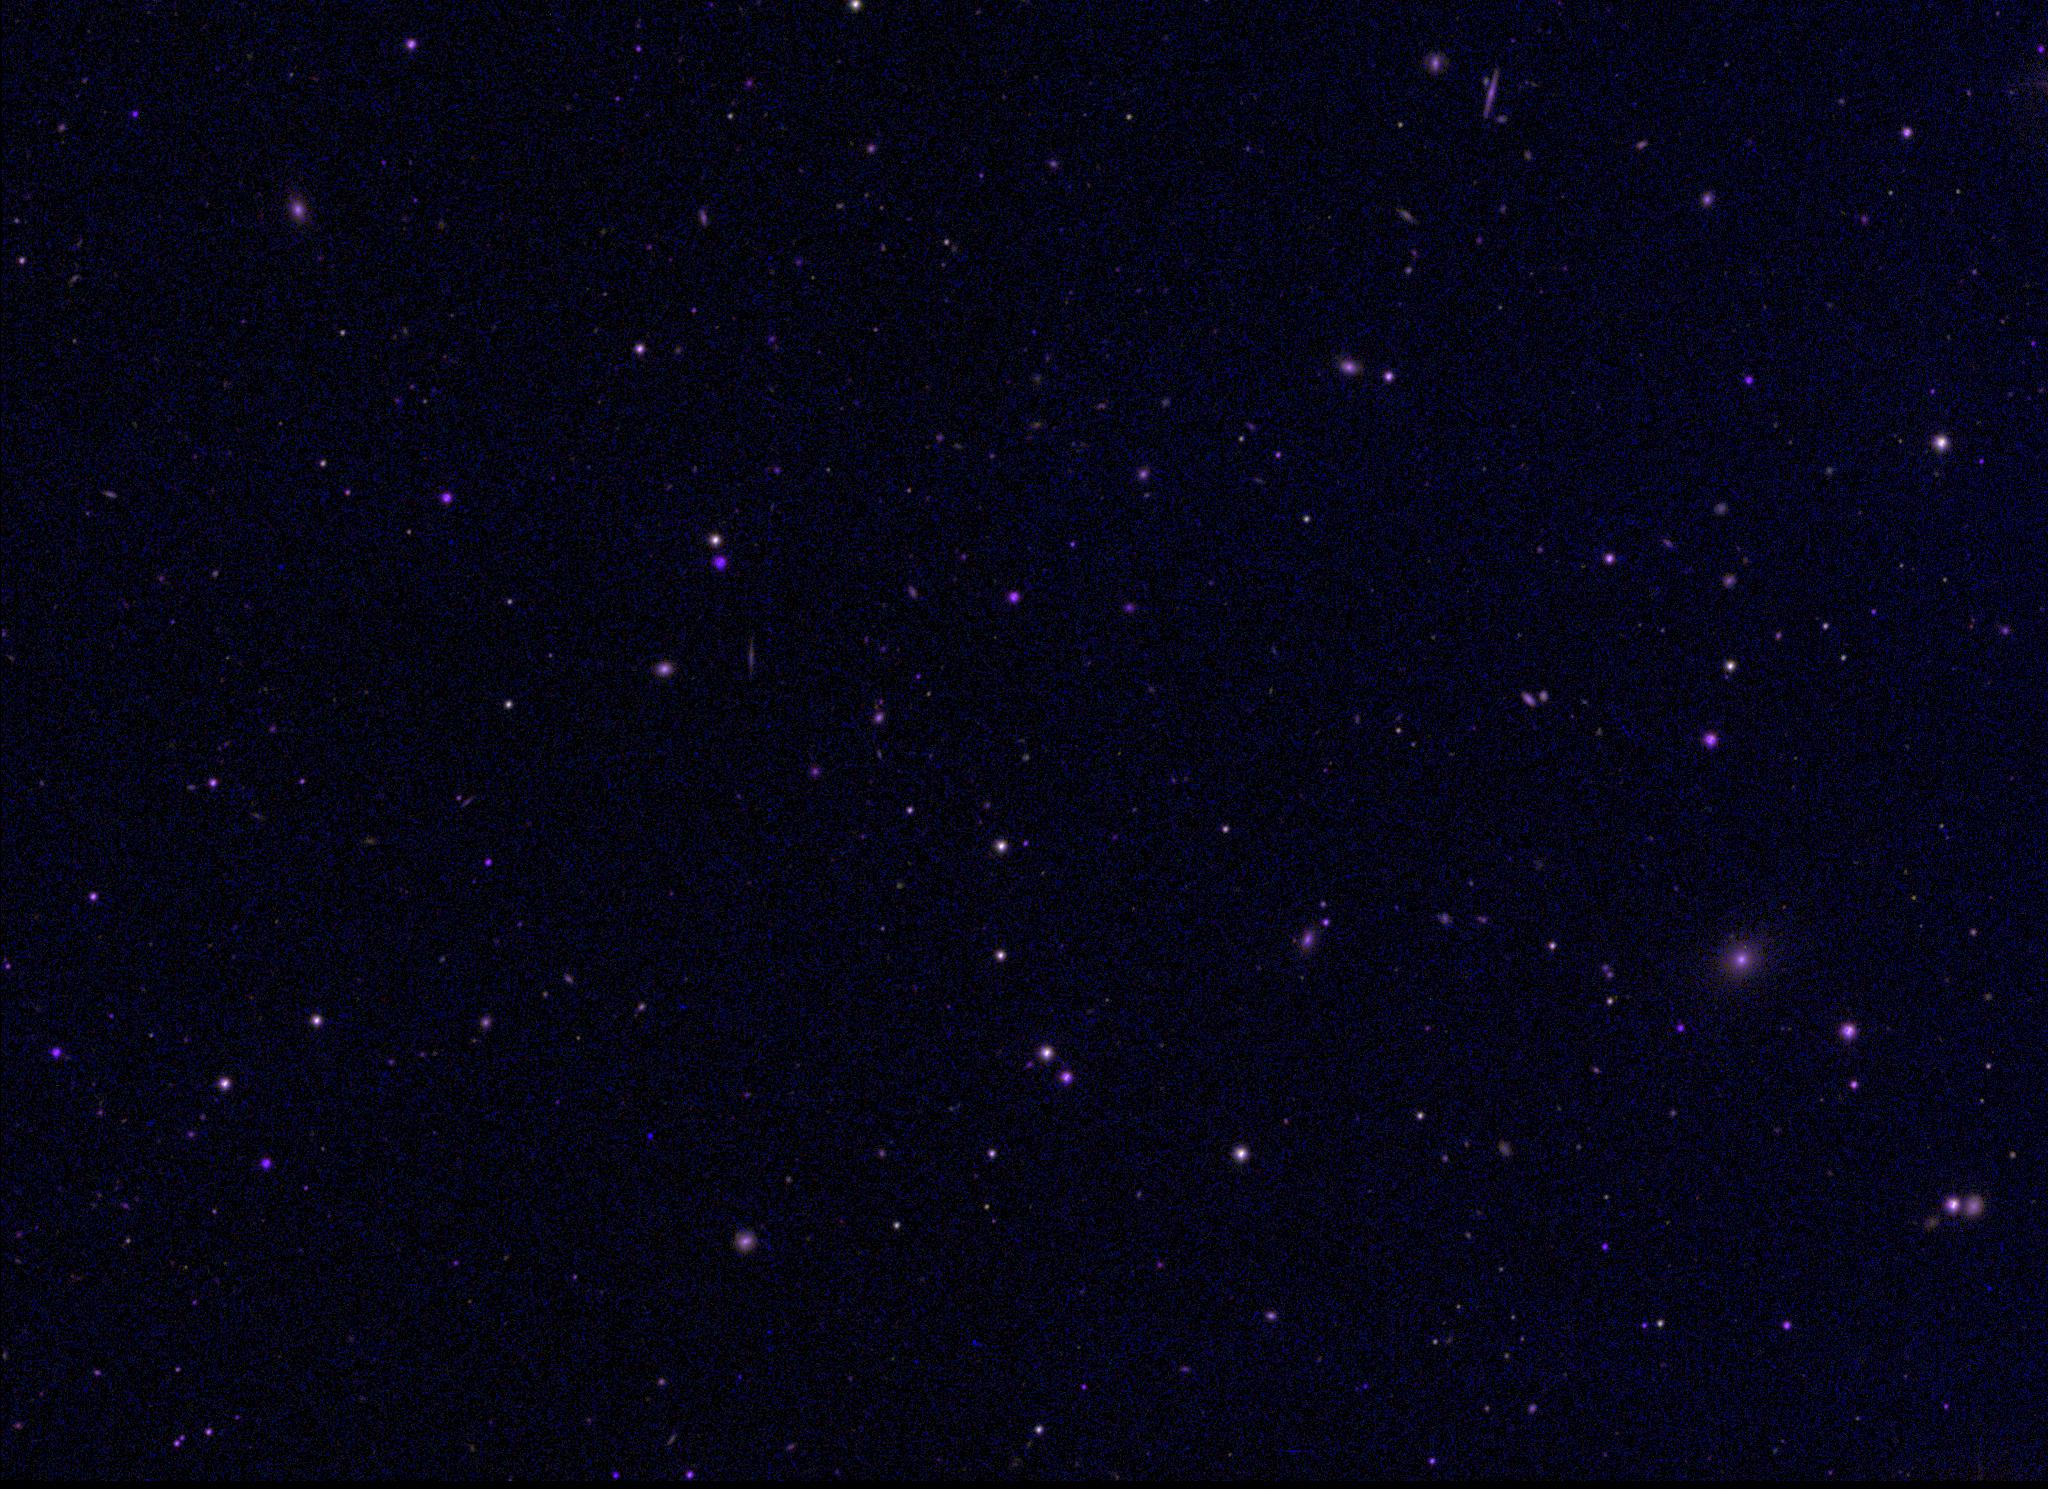L: (644, 1125, 658, 1139)
